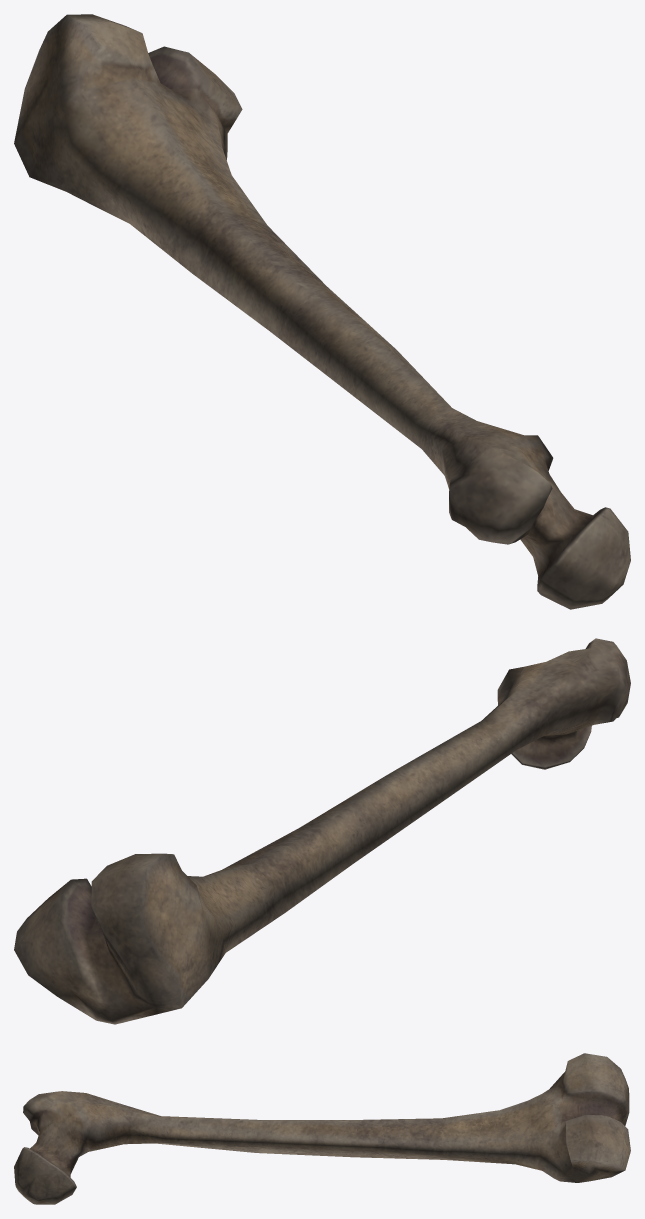
The model's file is sm_Bone_02_01.fbx.
3 renders of one model, top to bottom at view 1: azimuth 30°, elevation 25°; view 2: azimuth 150°, elevation 25°; view 3: azimuth 270°, elevation 25°, orthographic. The views are drawn at different scales.
Visible parts, largest first — view 1: sm_Bone_02_01_LOD0; view 2: sm_Bone_02_01_LOD0; view 3: sm_Bone_02_01_LOD0.
Boxes of the visible parts, x1,y1,x2,y2 form: sm_Bone_02_01_LOD0: [14, 14, 630, 609]; sm_Bone_02_01_LOD0: [14, 638, 630, 1024]; sm_Bone_02_01_LOD0: [14, 1053, 630, 1204].
Size of the model in its own units: 8.59 by 33.51 by 8.52.
